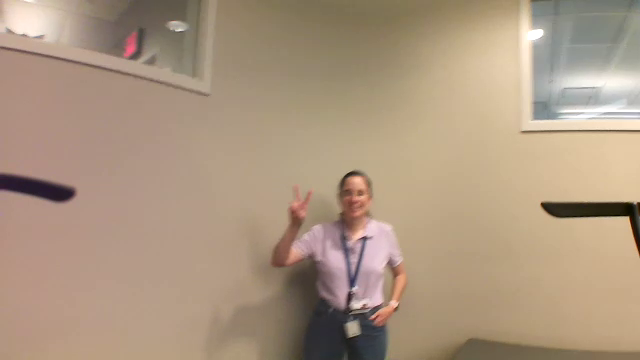peace: (280, 182, 316, 226)
